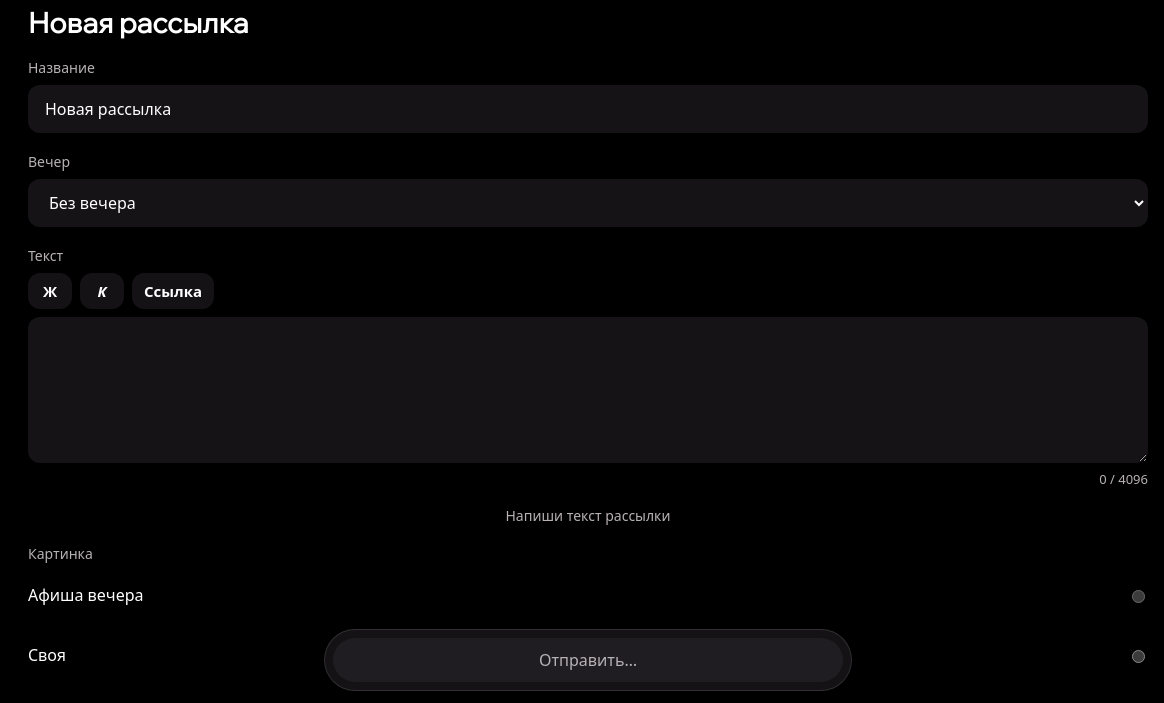
CampaignEditor › escapes <, > and & and opens the saved campaign
In the text box labelled "Текст": (588, 390) [28, 317, 1148, 463], type "a < b & c"
(page scrolled)
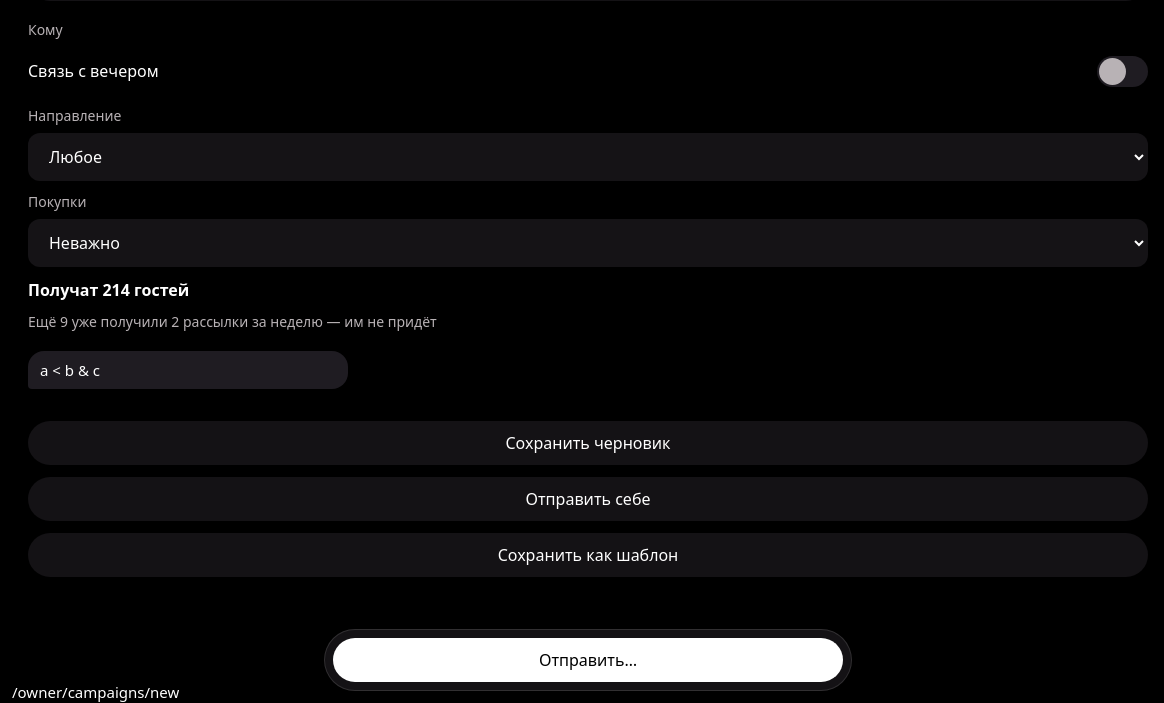
Click the button "Сохранить черновик": (588, 443) [28, 421, 1148, 465]
(page scrolled)
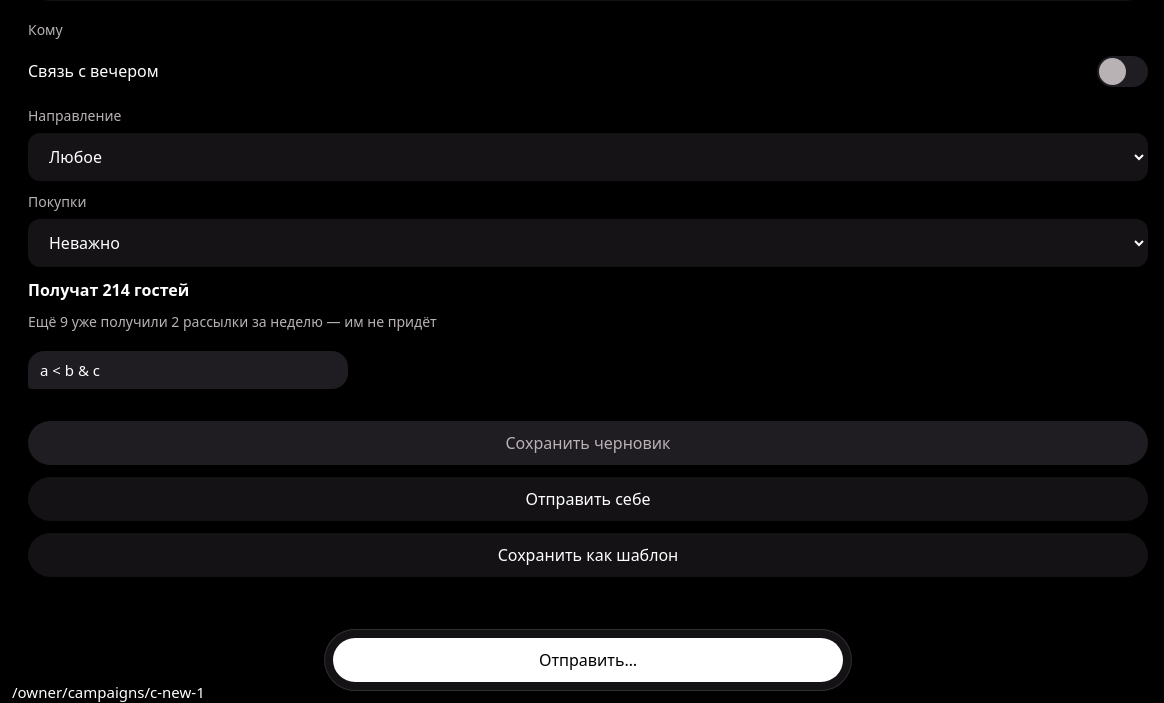
Check: the text with test id "where" reads "/owner/campaigns/c-new-1", box [12, 682, 205, 702]
